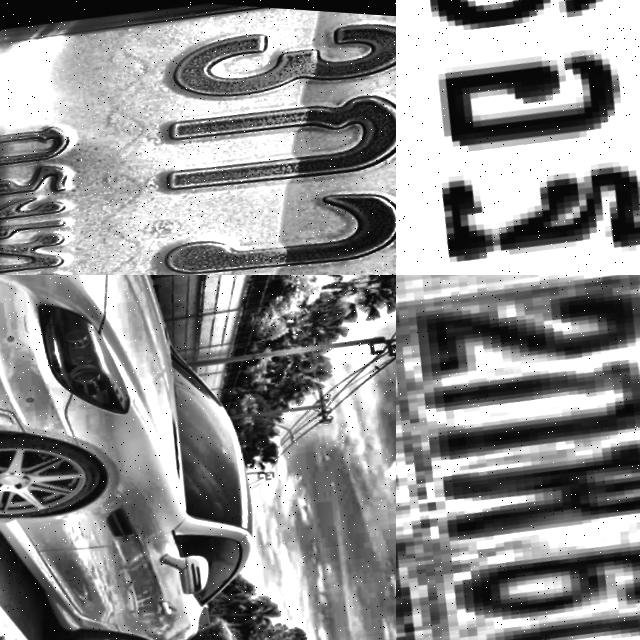license-plate: (0, 0, 396, 275), (396, 275, 640, 640), (396, 0, 640, 275)
